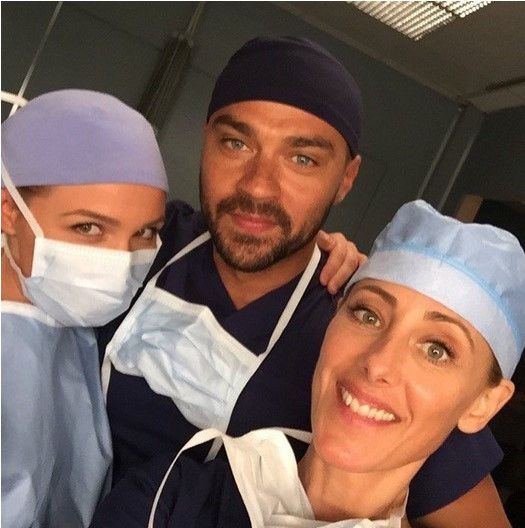face_with_mask: (215, 201, 524, 528), (111, 44, 361, 441), (4, 90, 174, 336)
